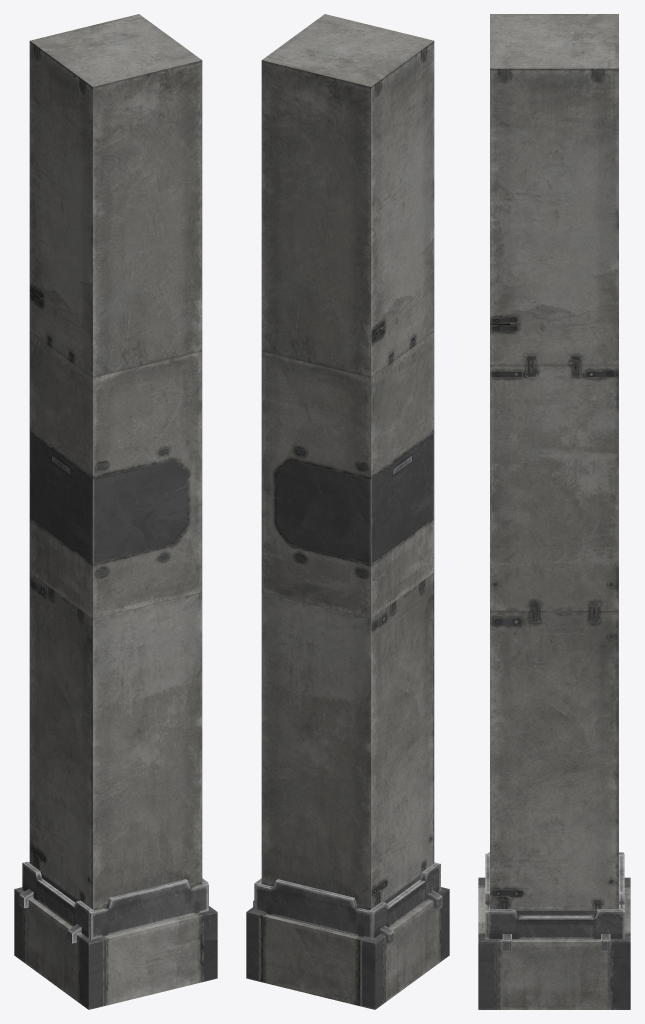
The model's file is CP_Column_Concrete_B_03.fbx.
3 views of the same model, side by side, from view 1: azimuth 30°, elevation 25°; view 2: azimuth 150°, elevation 25°; view 3: azimuth 270°, elevation 25° (orthographic). The views are drawn at different scales.
Parts seen in each view (by area): view 1: CP_Column_Concrete_B_03_LOD0; view 2: CP_Column_Concrete_B_03_LOD0; view 3: CP_Column_Concrete_B_03_LOD0.
Boxes of the visible parts, x1,y1,x2,y2 form: CP_Column_Concrete_B_03_LOD0: [14, 14, 217, 1009]; CP_Column_Concrete_B_03_LOD0: [246, 14, 449, 1009]; CP_Column_Concrete_B_03_LOD0: [478, 14, 630, 1009].
Size of what is drawn, in the model's own units: 62.67 by 400 by 58.9.
